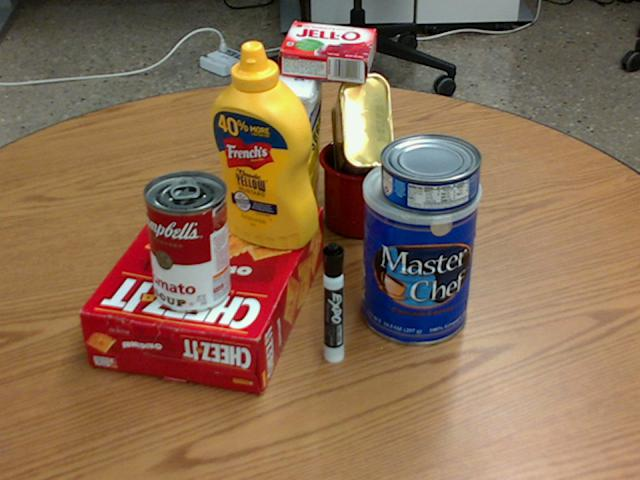cracker_box: (80, 190, 324, 394)
gelatin_box: (277, 22, 376, 83)
large_marker: (322, 242, 344, 363)
master_chef_can: (359, 155, 479, 344)
mug: (321, 134, 427, 237)
mustard_bottle: (209, 41, 317, 247)
potted_meat_can: (330, 74, 394, 190)
sugar_box: (270, 54, 322, 244)
tomato_soup_can: (143, 170, 231, 312)
tuna_fish_can: (380, 133, 481, 212)
